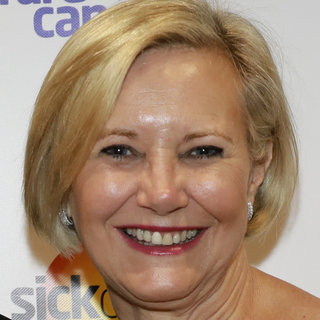eye: (96, 140, 147, 164), (178, 142, 227, 161)
